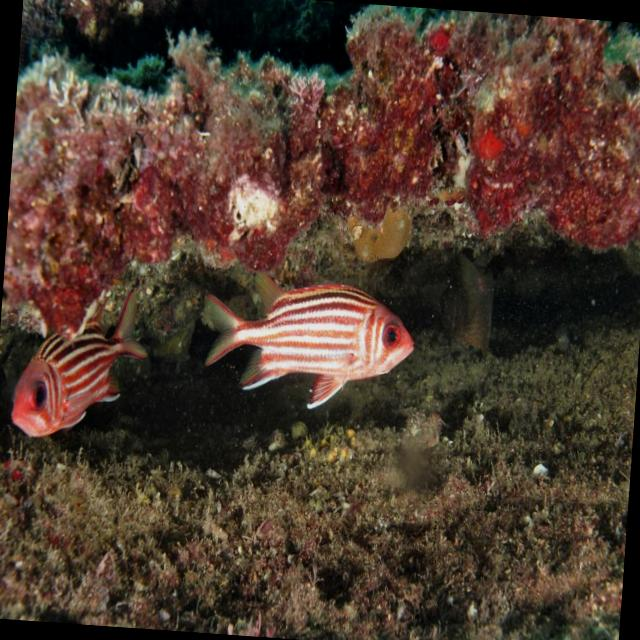Asker Baligi: (193, 264, 418, 416), (5, 276, 152, 446)
